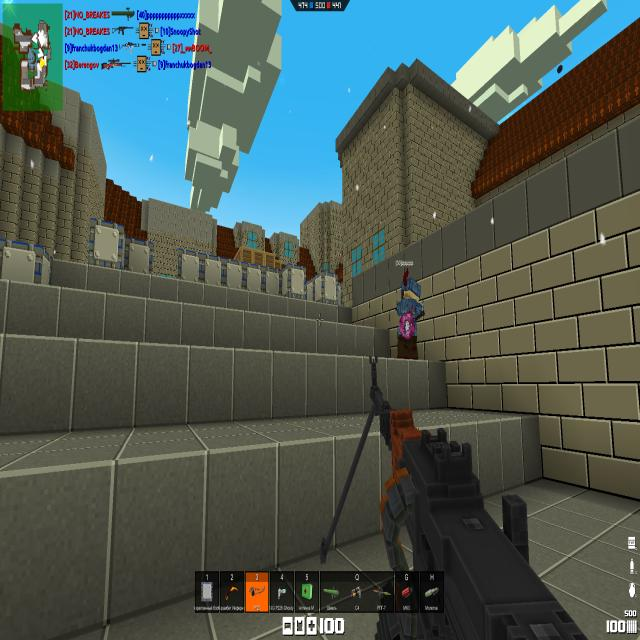player: (398, 266, 426, 361)
